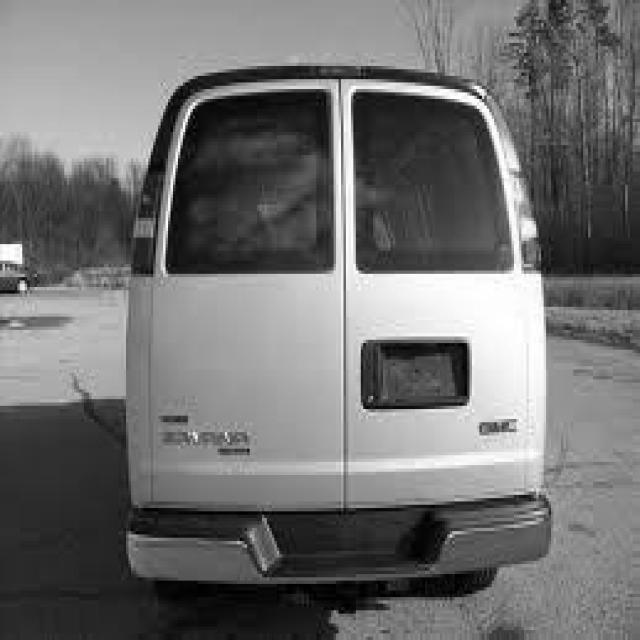car: (0, 257, 40, 294)
